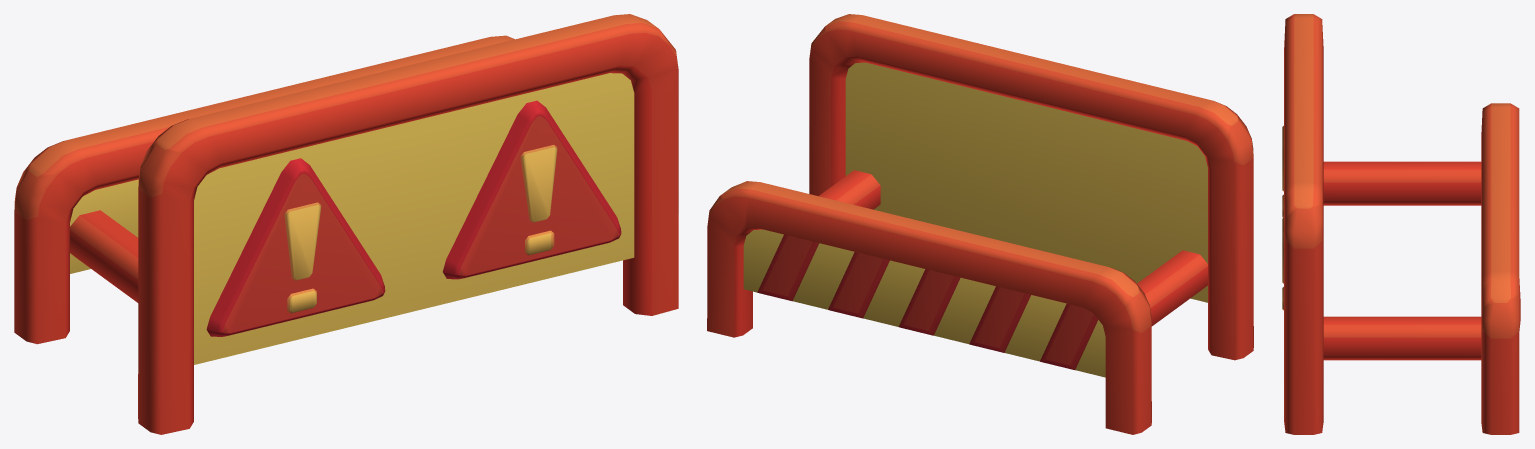
File: Factory_Bench.fbx
3 views of the same model, side by side, from view 1: azimuth 30°, elevation 25°; view 2: azimuth 150°, elevation 25°; view 3: azimuth 270°, elevation 25° (orthographic). The views are drawn at different scales.
Visible parts, largest first — view 1: Factory_Bench; view 2: Factory_Bench; view 3: Factory_Bench.
Part boxes in pixels (bbox=[...]): Factory_Bench: bbox=[14, 14, 678, 434]; Factory_Bench: bbox=[707, 14, 1253, 434]; Factory_Bench: bbox=[1282, 14, 1520, 434].
Bounding box in the file's own units: 97.24 × 51.39 × 47.8.
